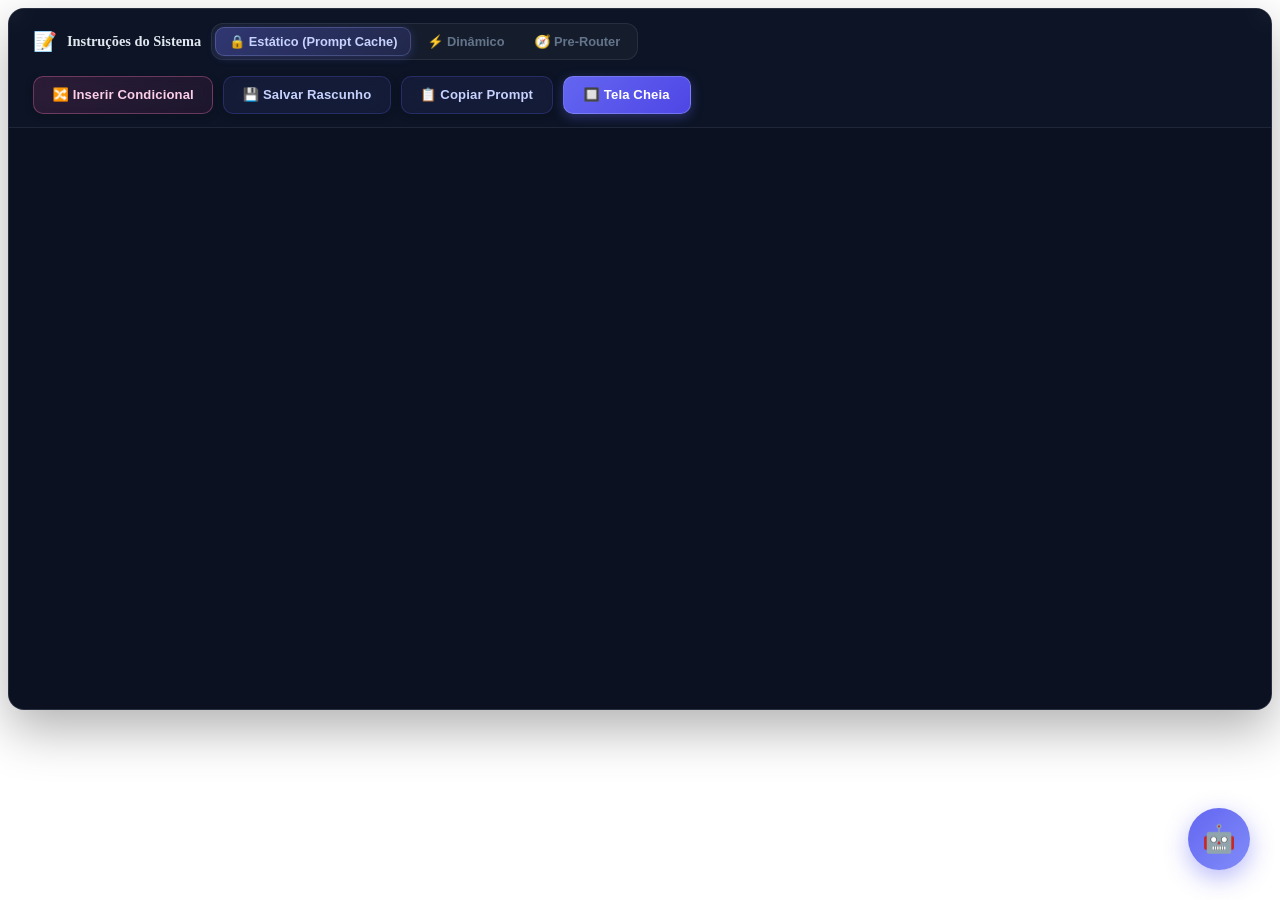
PromptAdvisor - Funcionalidade de Reset de Memória › deve limpar o histórico de mensagens ao clicar no botão de reset
// Abre o Assistente
Click the button titled "Assistente de Prompt": (1219, 839) [1188,808,1250,870]
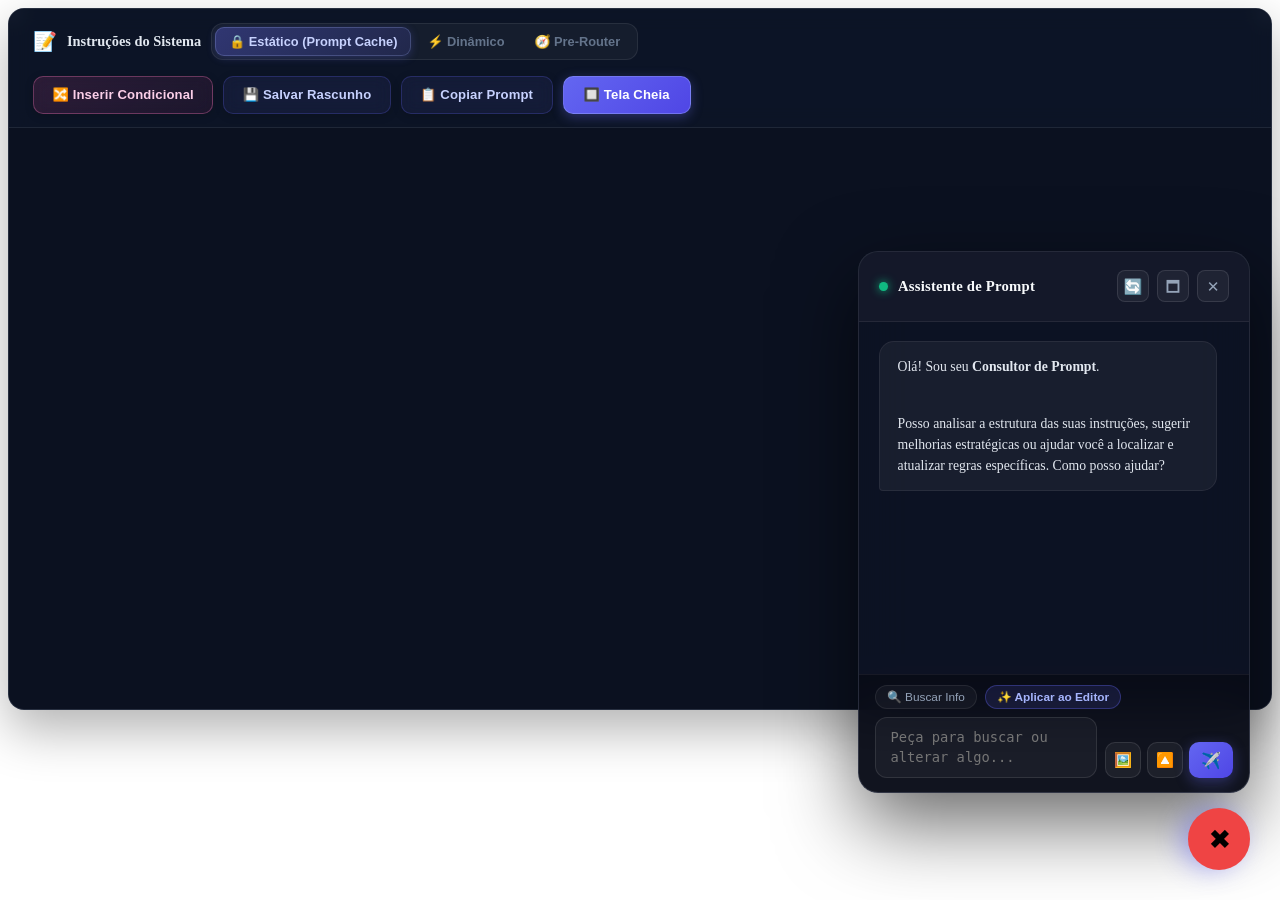
expect the text "Olá! Sou seu Consultor de Prompt." is shown: met, box [898,359,1100,374]
// Envia uma mensagem
In the text box with placeholder "Peça para buscar ou alterar algo...": (986, 748) [875,717,1097,778], type "Me ajude a melhorar este prompt"
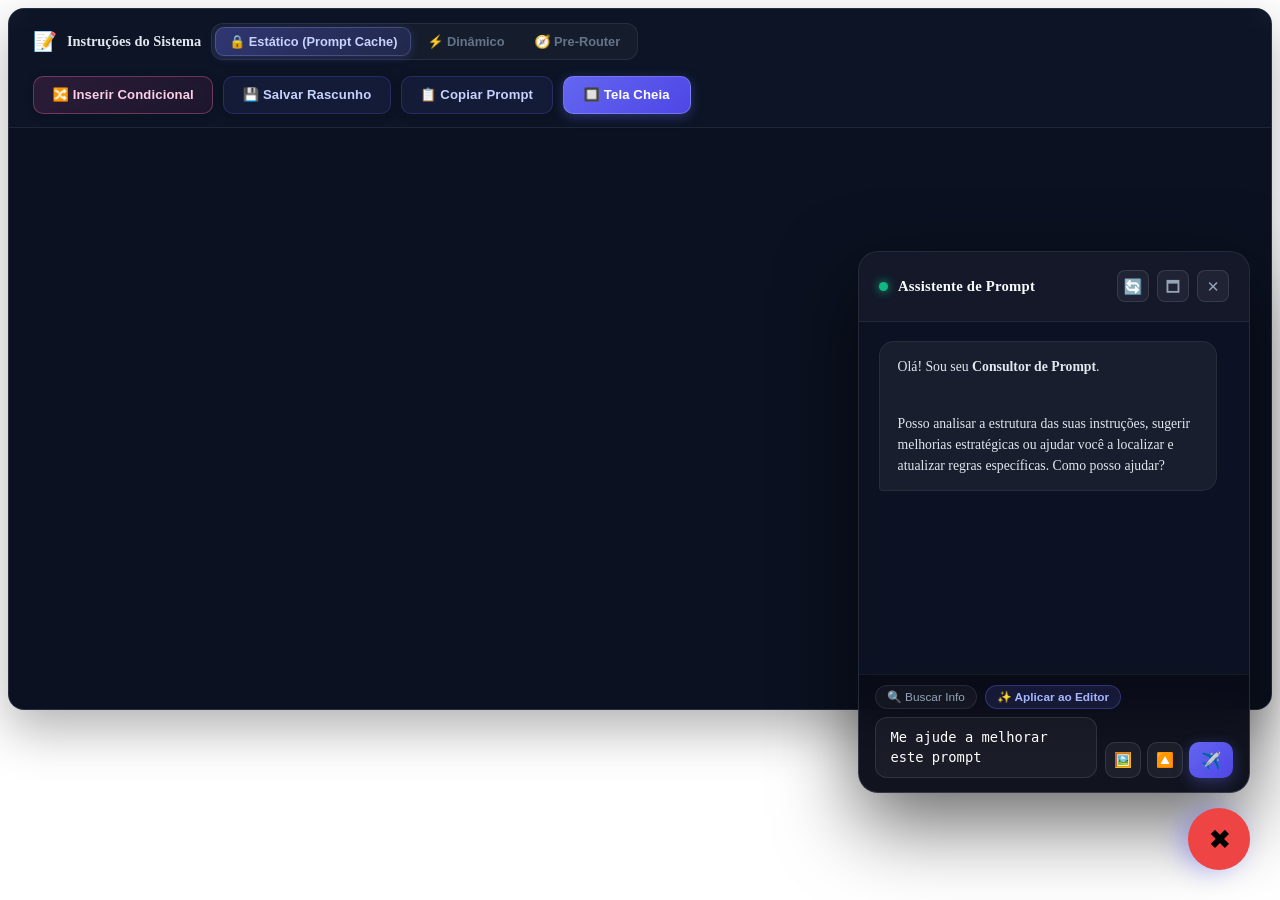
// Botão de enviar é o '✈️'
Click the button "✈️": (1211, 760) [1189,742,1233,778]
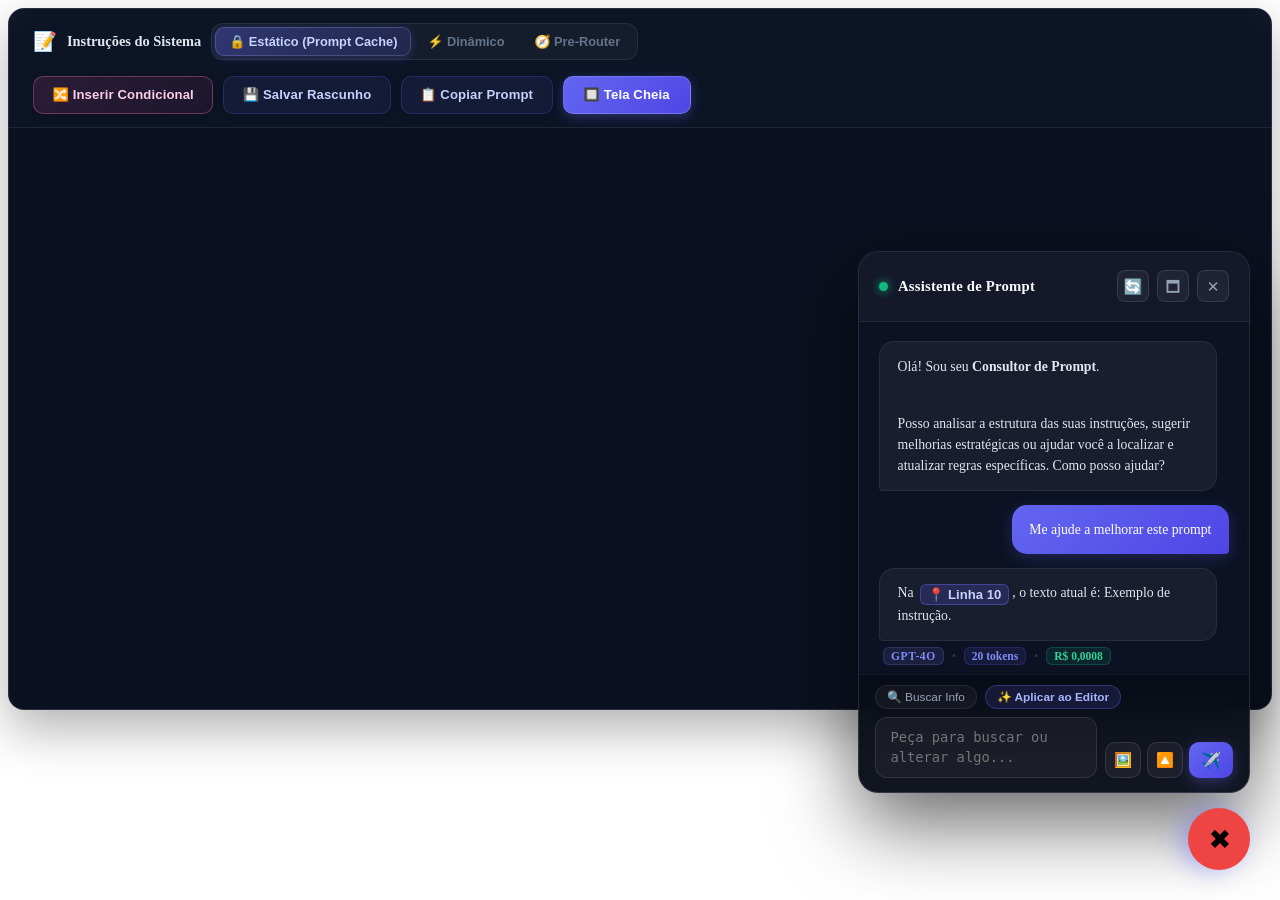
expect the text "Na 📍 Linha 10 , o texto atual é: Exemplo de instrução." is shown: met, box [898,582,1199,626]
expect the text "20 tokens" is shown: met, box [964,647,1026,665]
// Agora clica no botão de Reset (🔄)
Click the button titled "Reiniciar Memória": (1133, 286) [1117,270,1149,302]
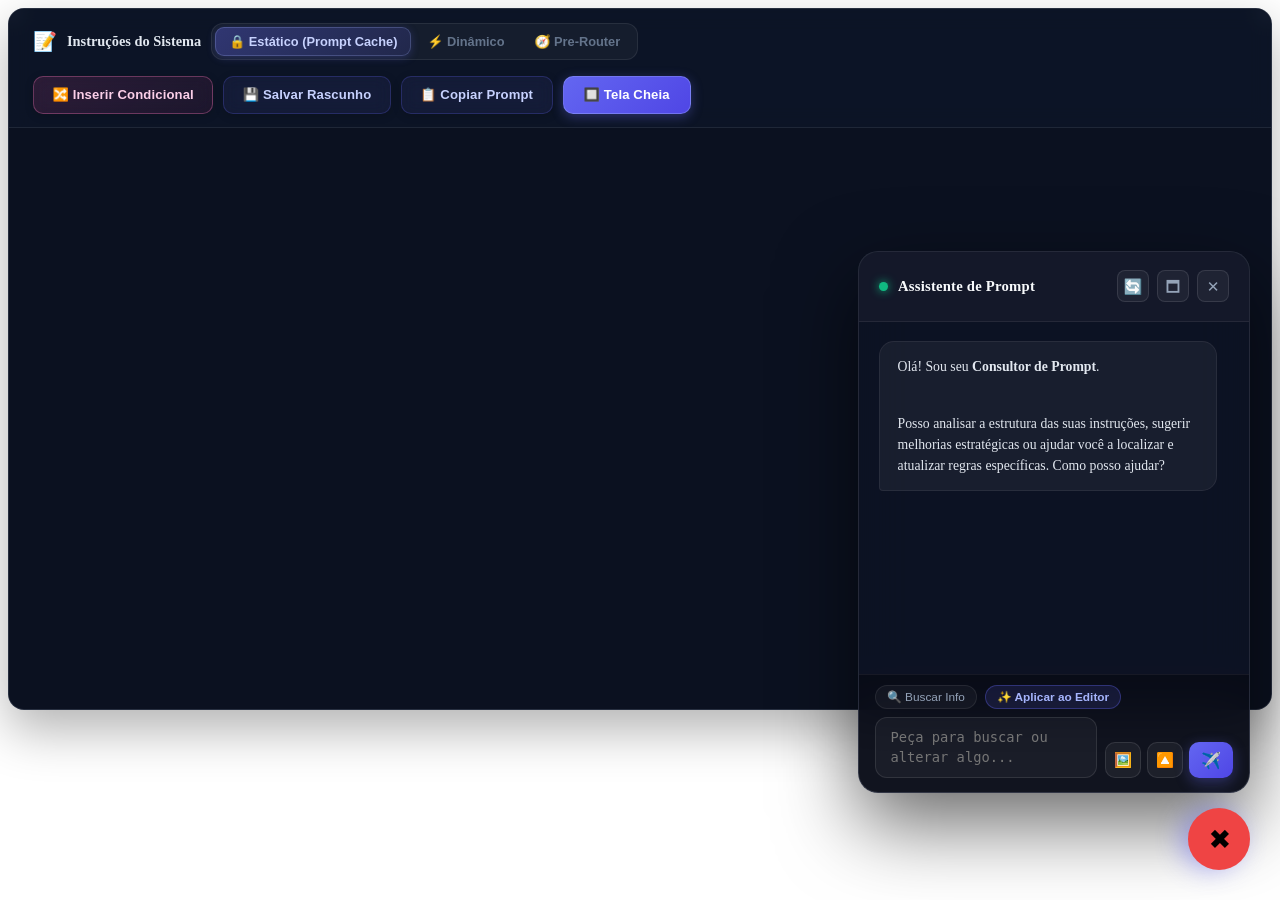
expect the text "Olá! Sou seu Consultor de Prompt." is shown: met, box [898,359,1100,374]
expect the text "Me ajude a melhorar este prompt" is gone: met
expect the text "Exemplo de instrução" is gone: met
